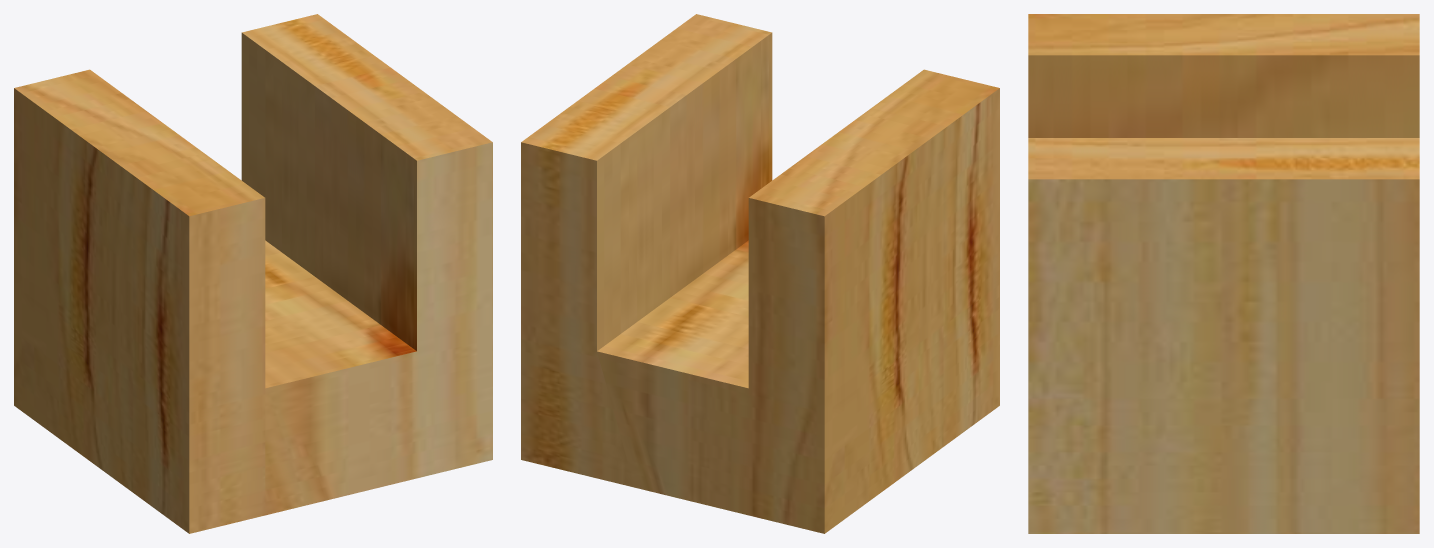
The model's file is stage1_start.obj.
3 renders of one model, left to right at view 1: azimuth 30°, elevation 25°; view 2: azimuth 150°, elevation 25°; view 3: azimuth 270°, elevation 25°, orthographic. The views are drawn at different scales.
Visible parts, largest first — view 1: 立方體; view 2: 立方體; view 3: 立方體.
Part boxes in pixels (bbox=[...]): 立方體: bbox=[14, 14, 492, 533]; 立方體: bbox=[521, 14, 999, 533]; 立方體: bbox=[1028, 14, 1419, 533].
Bounding box in the file's own units: 50 × 50 × 50.
Materials: 1 (1 with a texture image).
